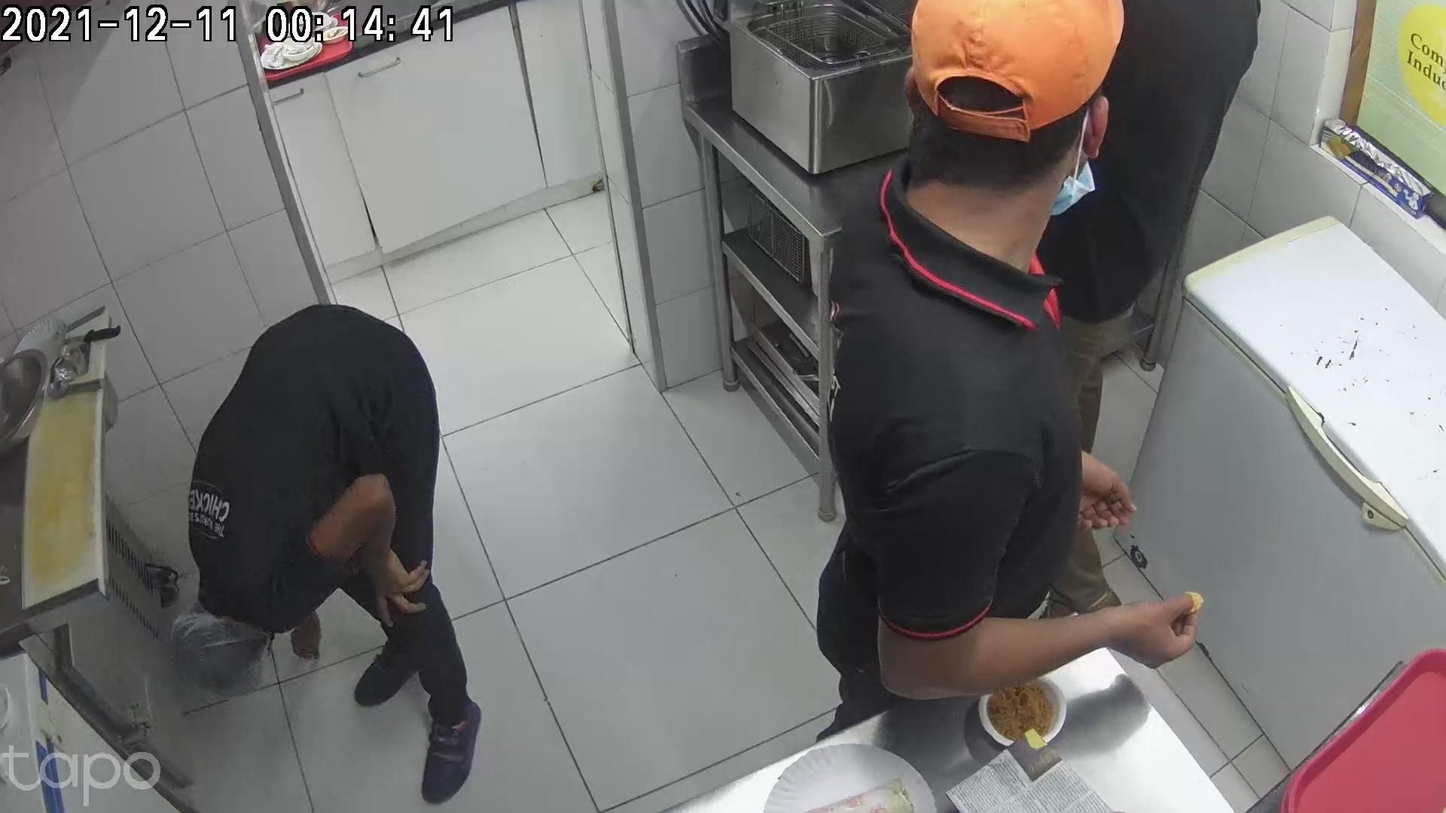no_gloves: (415, 319, 481, 407), (648, 249, 695, 353)
